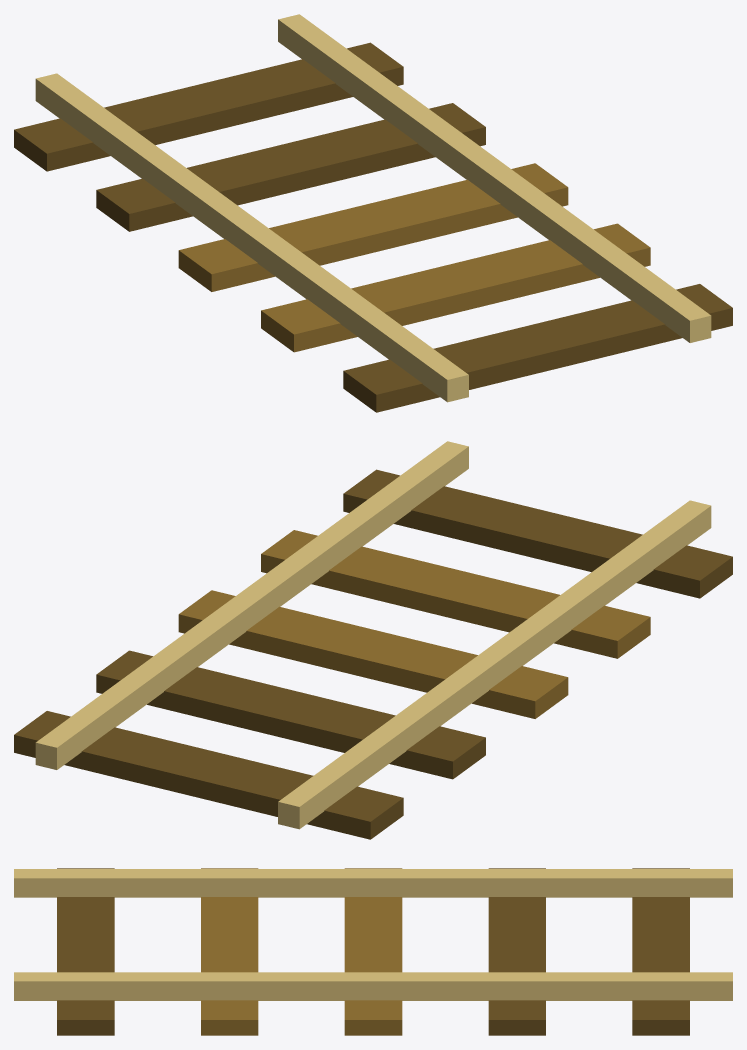
File: rail_track.glb
3 renders of one model, top to bottom at view 1: azimuth 30°, elevation 25°; view 2: azimuth 150°, elevation 25°; view 3: azimuth 270°, elevation 25°, orthographic. The views are drawn at different scales.
Parts seen in each view (by area): view 1: golden rail.001, golden rail, golden sleeper, golden sleeper.002, golden sleeper.003, golden sleeper.001, golden sleeper.004; view 2: golden rail.001, golden rail, golden sleeper.004, golden sleeper.002, golden sleeper.001, golden sleeper.003, golden sleeper; view 3: golden rail.001, golden rail, golden sleeper.002, golden sleeper, golden sleeper.004, golden sleeper.001, golden sleeper.003.
Part boxes in pixels (box(x1,y1,x2,y2)): golden rail.001: box(278, 14, 711, 342); golden rail: box(35, 73, 468, 402); golden sleeper: box(343, 284, 732, 412); golden sleeper.002: box(178, 163, 568, 291); golden sleeper.003: box(96, 103, 485, 231); golden sleeper.001: box(261, 223, 650, 352); golden sleeper.004: box(14, 42, 403, 171); golden rail.001: box(35, 441, 468, 769); golden rail: box(278, 500, 711, 829); golden sleeper.004: box(14, 711, 403, 839); golden sleeper.002: box(178, 590, 568, 718); golden sleeper.001: box(261, 530, 650, 658); golden sleeper.003: box(96, 650, 485, 779); golden sleeper: box(343, 469, 732, 598); golden rail.001: box(14, 972, 732, 1000); golden rail: box(14, 869, 732, 897); golden sleeper.002: box(344, 868, 402, 1035); golden sleeper: box(57, 868, 114, 1035); golden sleeper.004: box(632, 868, 689, 1035); golden sleeper.001: box(201, 868, 258, 1035); golden sleeper.003: box(488, 868, 545, 1035).
Size of the model in its own units: 0.5 by 0.053 by 1.
